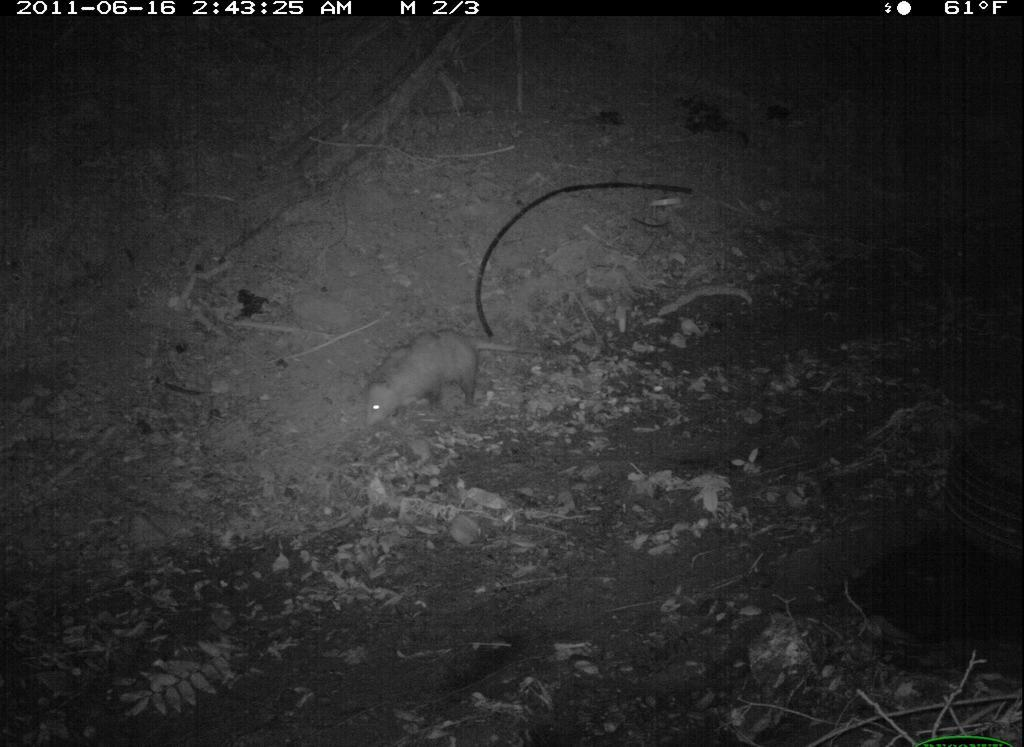opossum: (353, 329, 501, 429)
